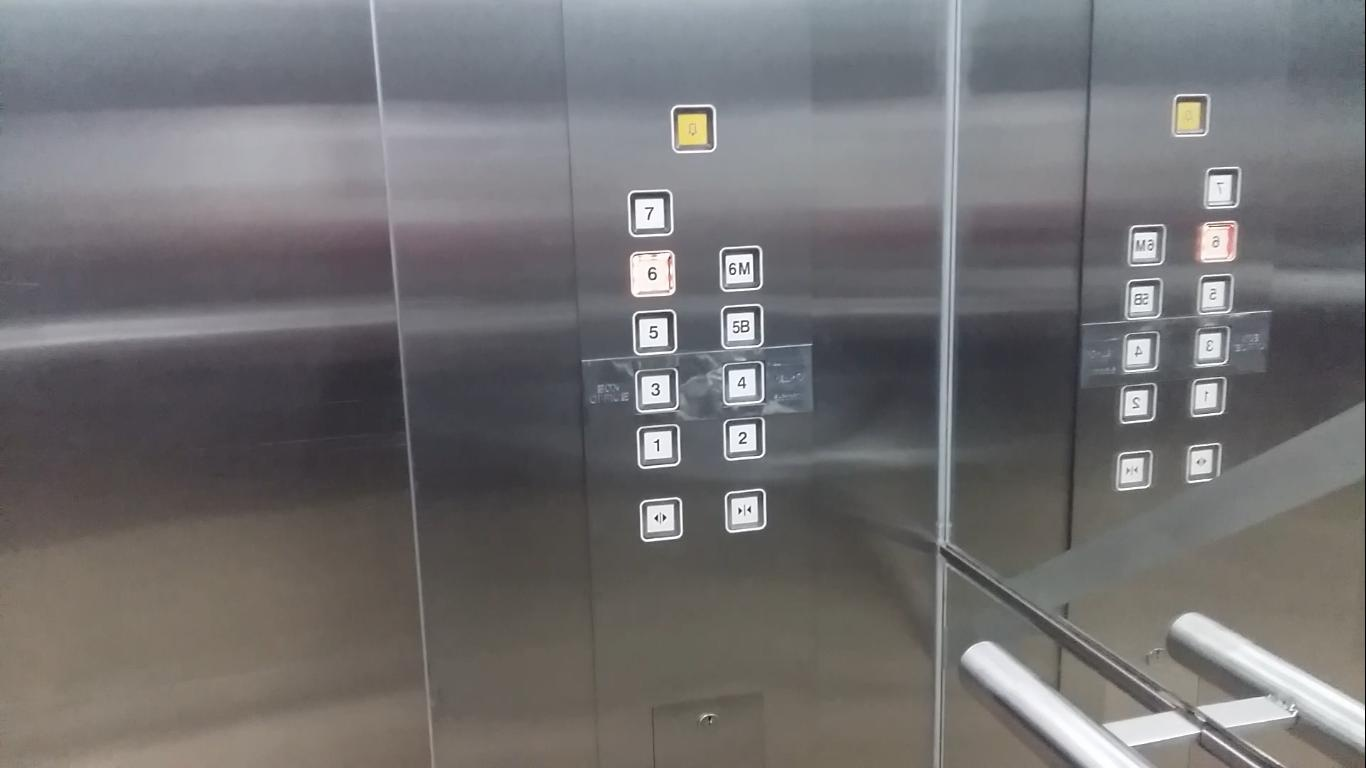1: (637, 424, 684, 470)
2: (721, 416, 768, 462)
3: (634, 365, 681, 414)
4: (719, 359, 766, 408)
5: (632, 307, 679, 356)
5B: (720, 303, 767, 352)
6: (629, 248, 677, 300)
6M: (717, 244, 765, 296)
7: (627, 188, 675, 240)
alarm: (668, 103, 717, 154)
close: (722, 487, 769, 533)
open: (638, 496, 685, 542)
